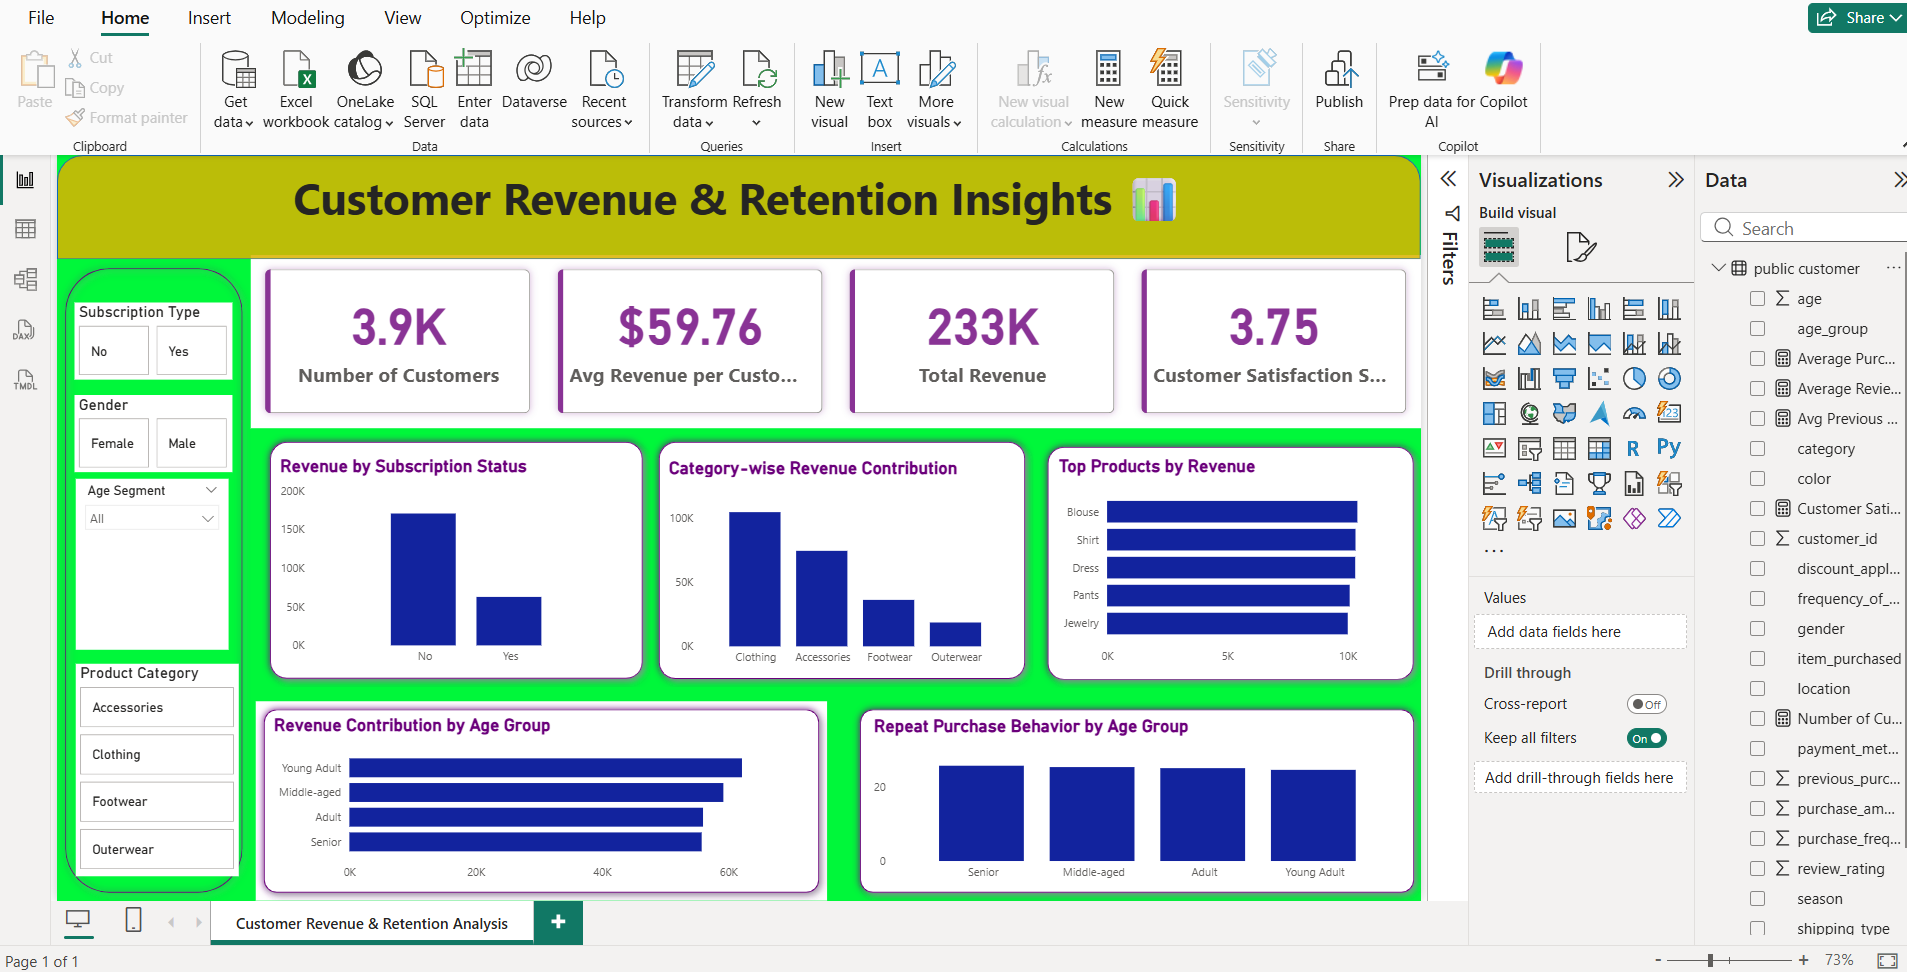

The page's visual inventory and layout, read from the dashboard file:
{"tool":"powerbi","page":{"name":"Customer Revenue & Retention Analysis","canvas":[1500,820],"ordinal":0},"visuals":[{"type":"cardVisual","fields":{"Data":["public customer.Number of Customers","public customer.Average Purchase Amount","public customer.Total Revenue","public customer.Customer Satisfaction Score"]},"box":[213.1,110,1286.8,190.8],"z":0},{"type":"shape","box":[0,0,1498.9,114.7],"z":1000},{"type":"textbox","box":[0,10,1498.9,106.1],"z":2000},{"type":"shape","box":[218,601,628.2,219.4],"z":2500,"group":"g1"},{"type":"shape","box":[225.2,306.9,427.4,278.3],"z":3000},{"type":"shape","box":[1080,311.2,420.3,274],"z":4000},{"type":"shape","box":[652.1,307,420.5,278.6],"z":5000},{"type":"clusteredColumnChart","title":"Category-wise Revenue Contribution","fields":{"Category":["public customer.category"],"Y":["public customer.Total Revenue"]},"box":[667.2,331.8,385.1,237.8],"z":6000},{"type":"shape","box":[0,115.3,212.9,704.5],"z":7000},{"type":"advancedSlicerVisual","fields":{"Values":["public customer.subscription_status"]},"box":[19.5,161.5,173.9,85.2],"z":8000},{"type":"advancedSlicerVisual","fields":{"Values":["public customer.gender"]},"box":[19.5,264.4,173.9,85.2],"z":9000},{"type":"advancedSlicerVisual","fields":{"Values":["public customer.category"]},"box":[20.1,559.4,179.3,233.8],"z":10000},{"type":"shape","box":[873.5,601,626.8,219.4],"z":11000},{"type":"group","id":"g1","title":"Group 1","box":[218,601,628.2,219.4],"z":12000},{"type":"clusteredColumnChart","title":"Revenue by Subscription Status","fields":{"Category":["public customer.subscription_status"],"Y":["public customer.Total Revenue"]},"box":[241,331.3,385.8,238.1],"z":13000},{"type":"clusteredBarChart","title":"Top Products by Revenue","fields":{"Category":["public customer.item_purchased"],"Y":["public customer.Total Revenue"]},"box":[1095.8,331.3,390.1,238.1],"z":14000},{"type":"clusteredColumnChart","title":"Repeat Purchase Behavior by Age Group","fields":{"Category":["public customer.age_group"],"Y":["public customer.Avg Previous Purchases"]},"box":[893.6,616.8,592.4,189.3],"z":15000},{"type":"slicer","title":"Age Segment","fields":{"Values":["public customer.age_group"]},"box":[20.1,355.7,167.8,187.9],"z":16000},{"type":"clusteredBarChart","title":"Revenue Contribution by Age Group","fields":{"Category":["public customer.age_group"],"Y":["public customer.Total Revenue"]},"box":[233.3,616.4,589.1,190.8],"z":17500,"group":"g1"}]}

Visuals, with their boxes on the page's 1500x820 design canvas (x1, y1, x2, y2). These are canvas units, not pixel positions in the 1907x972 screenshot, which may show the page scaled, cropped or inside an application window:
cardVisual - public customer.Number of Customers x public customer.Average Purchase Amount: (213,110,1500,301)
shape: (0,0,1499,115)
textbox: (0,10,1499,116)
shape: (218,601,846,820)
shape: (225,307,653,585)
shape: (1080,311,1500,585)
shape: (652,307,1073,586)
"Category-wise Revenue Contribution" clusteredColumnChart: (667,332,1052,570)
shape: (0,115,213,820)
advancedSlicerVisual - public customer.subscription_status: (20,162,193,247)
advancedSlicerVisual - public customer.gender: (20,264,193,350)
advancedSlicerVisual - public customer.category: (20,559,199,793)
shape: (874,601,1500,820)
"Group 1" group: (218,601,846,820)
"Revenue by Subscription Status" clusteredColumnChart: (241,331,627,569)
"Top Products by Revenue" clusteredBarChart: (1096,331,1486,569)
"Repeat Purchase Behavior by Age Group" clusteredColumnChart: (894,617,1486,806)
"Age Segment" slicer: (20,356,188,544)
"Revenue Contribution by Age Group" clusteredBarChart: (233,616,822,807)
